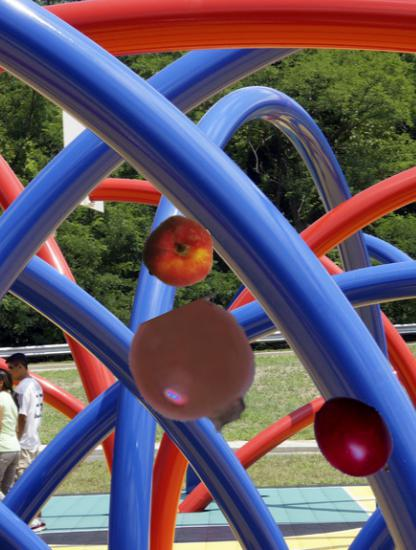Nectarine: (143, 217, 217, 291)
Redcurrant: (130, 306, 261, 437)
Tamarillo: (308, 391, 403, 486)
